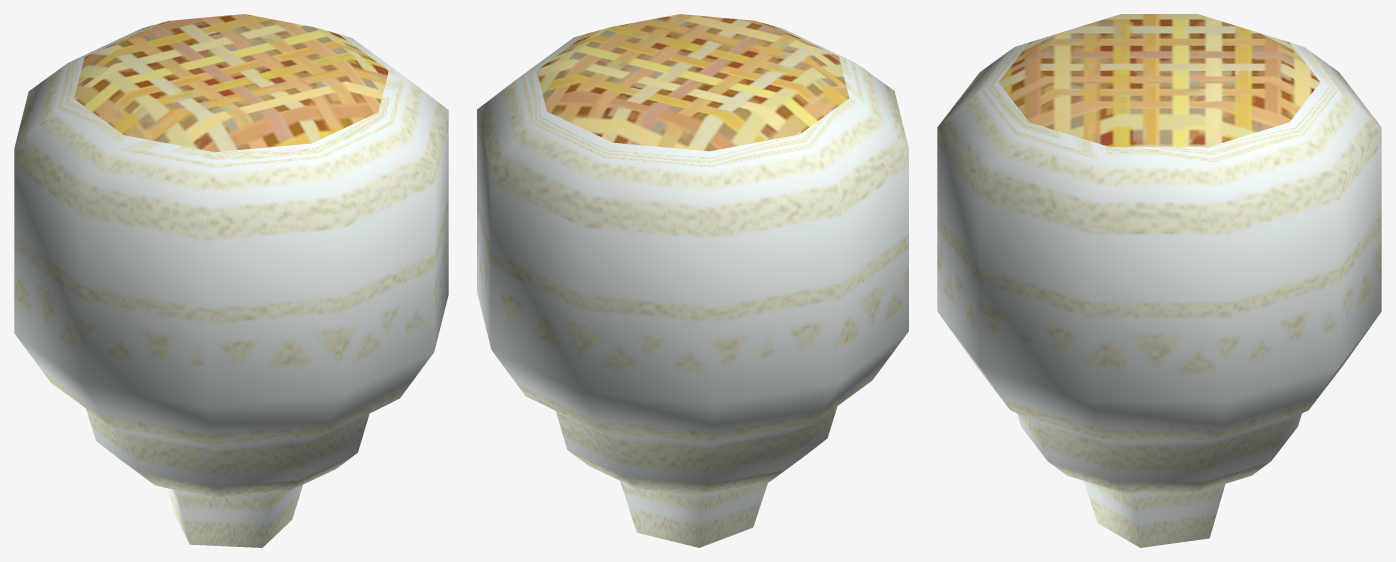
The model's file is WaterPlatformBounceCollision.obj.
The picture shows the model from 3 angles, left to right: view 1: azimuth 30°, elevation 25°; view 2: azimuth 150°, elevation 25°; view 3: azimuth 270°, elevation 25°; orthographic projection.
Size of the model in its own units: 60.18 by 72.18 by 63.28.
2 materials, 2 textured.
